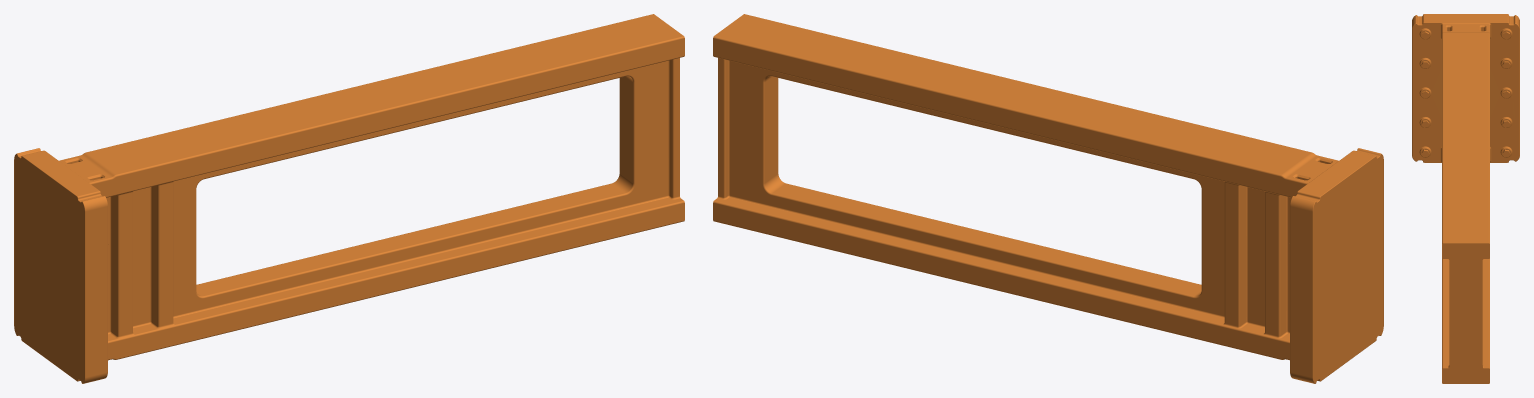
File: structure_beam_mount_b01.glb
3 views of the same model, side by side, from view 1: azimuth 30°, elevation 25°; view 2: azimuth 150°, elevation 25°; view 3: azimuth 270°, elevation 25° (orthographic). The views are drawn at different scales.
Size of the model in its own units: 2 by 0.5713 by 0.3974.
